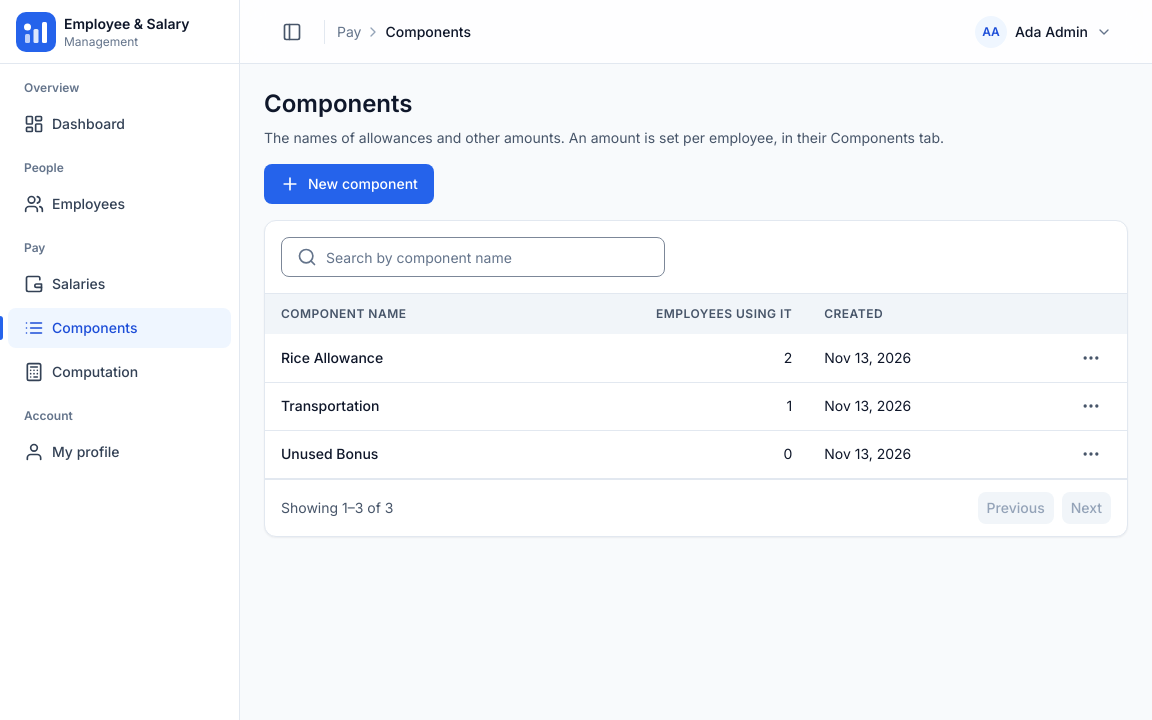
Scenario: Components catalog page › new component › creates a name only: no amount and no employee
Expected: the table named "Components" is shown, [265, 294, 1127, 478]
Click the button "New component" at (349, 184), box [264, 164, 434, 204]
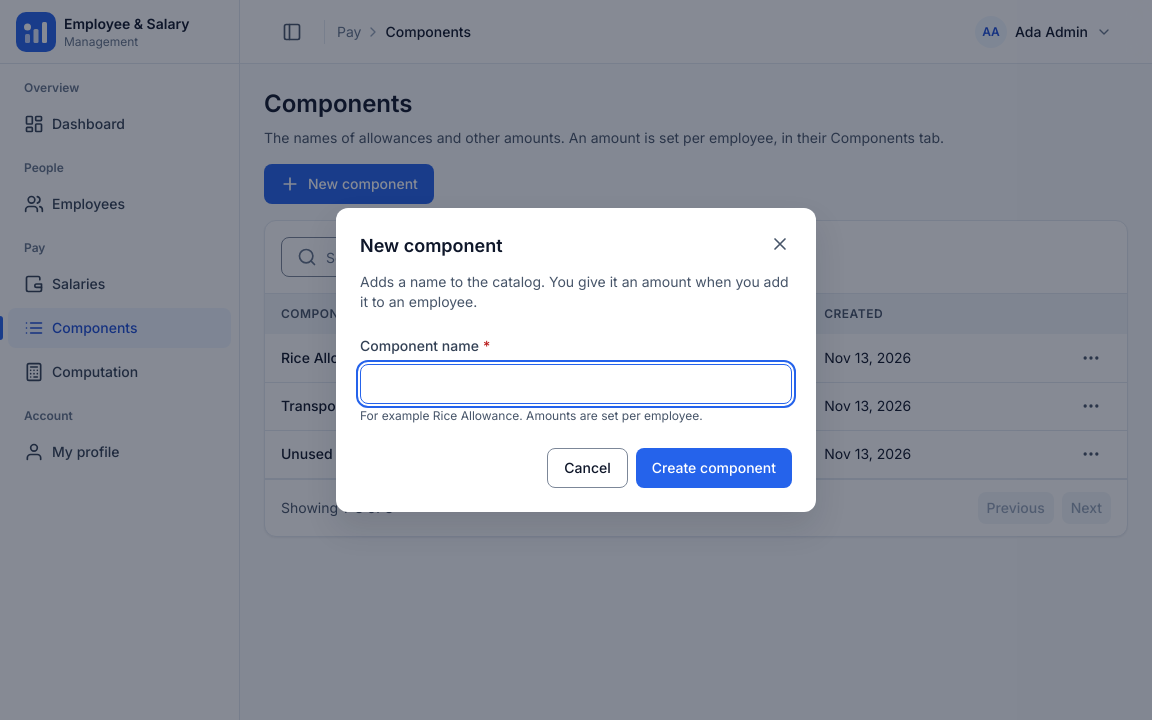
Type "  Meal Allowance " into the field labelled "Component name*" at (576, 384), box [360, 364, 792, 404]
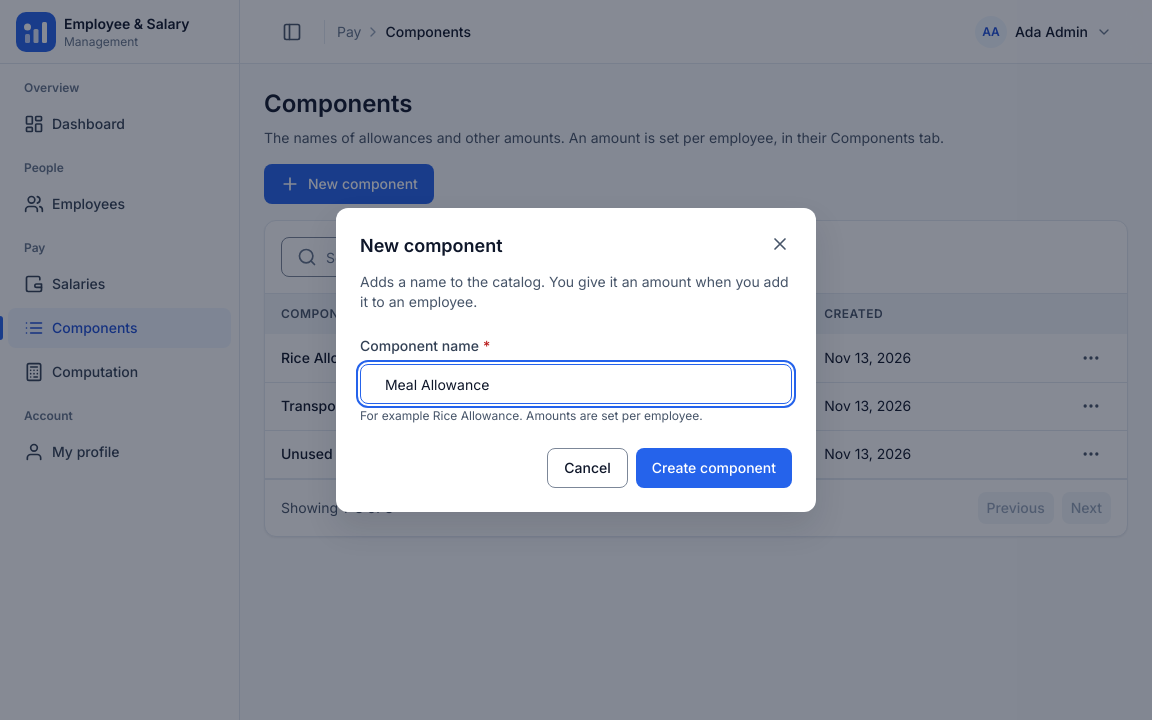
Click the button "Create component" at (714, 468), box [636, 448, 792, 488]
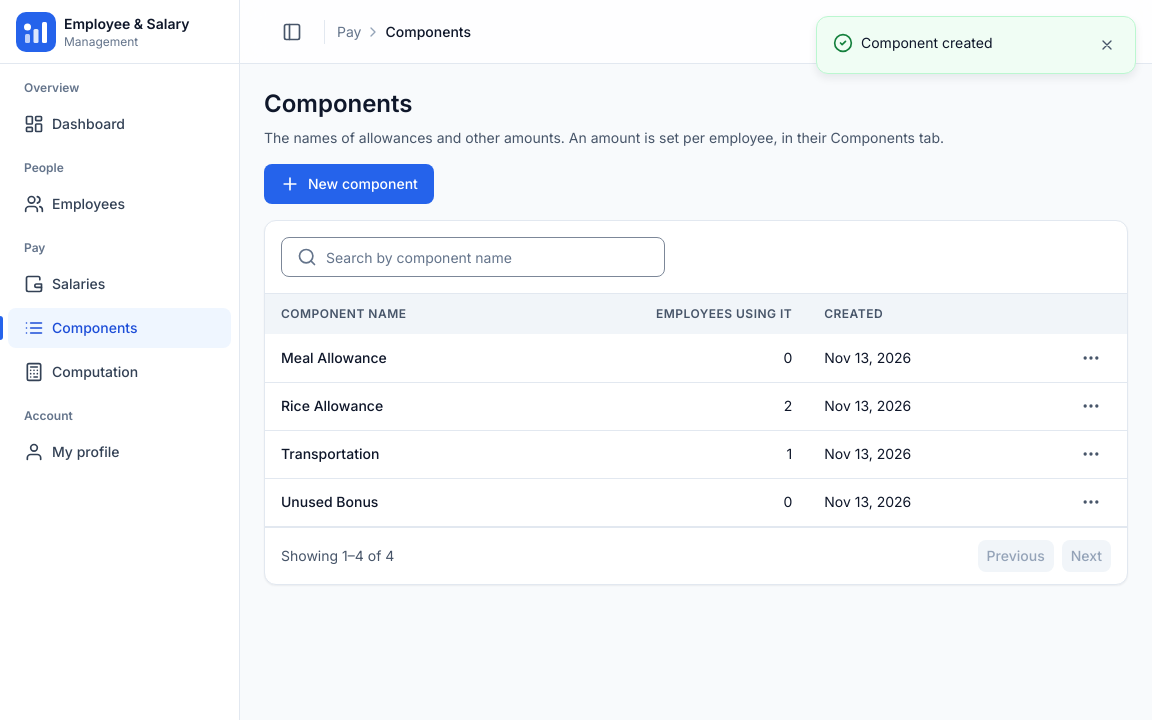
Expected: the text "Component created" is shown, [861, 34, 992, 51]
Expected: the dialog is gone
Expected: the cell "Meal Allowance" is shown, [265, 334, 528, 382]
